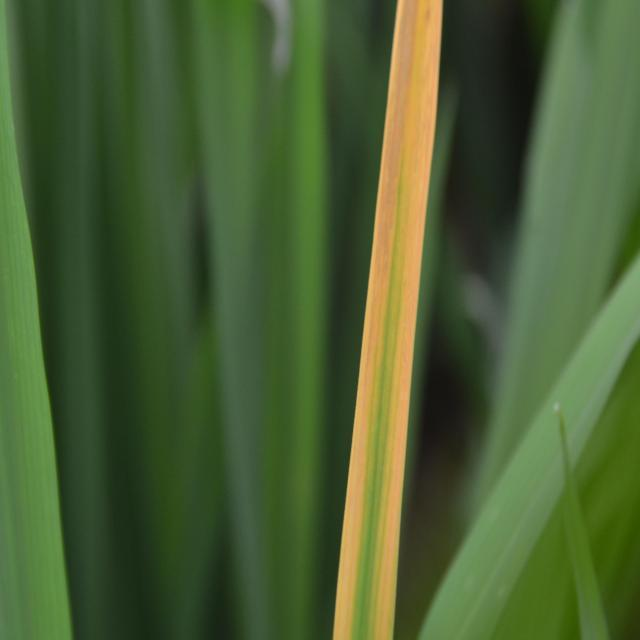Rice Tungro: (317, 3, 450, 630)
